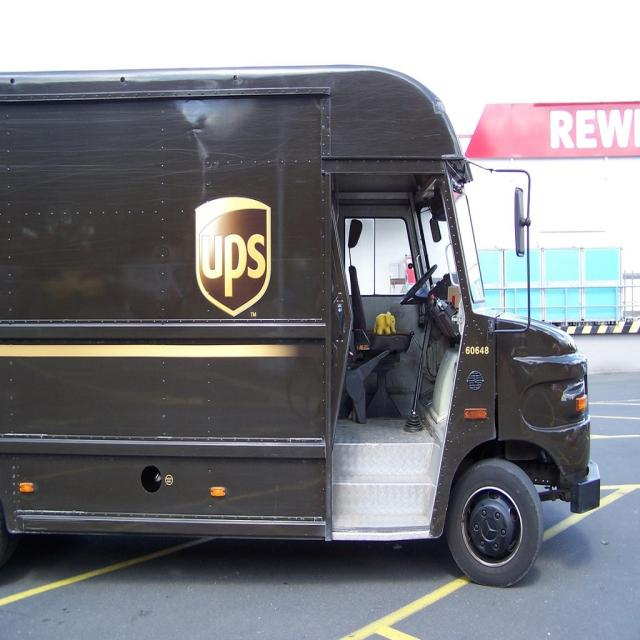ups: (195, 197, 273, 318)
